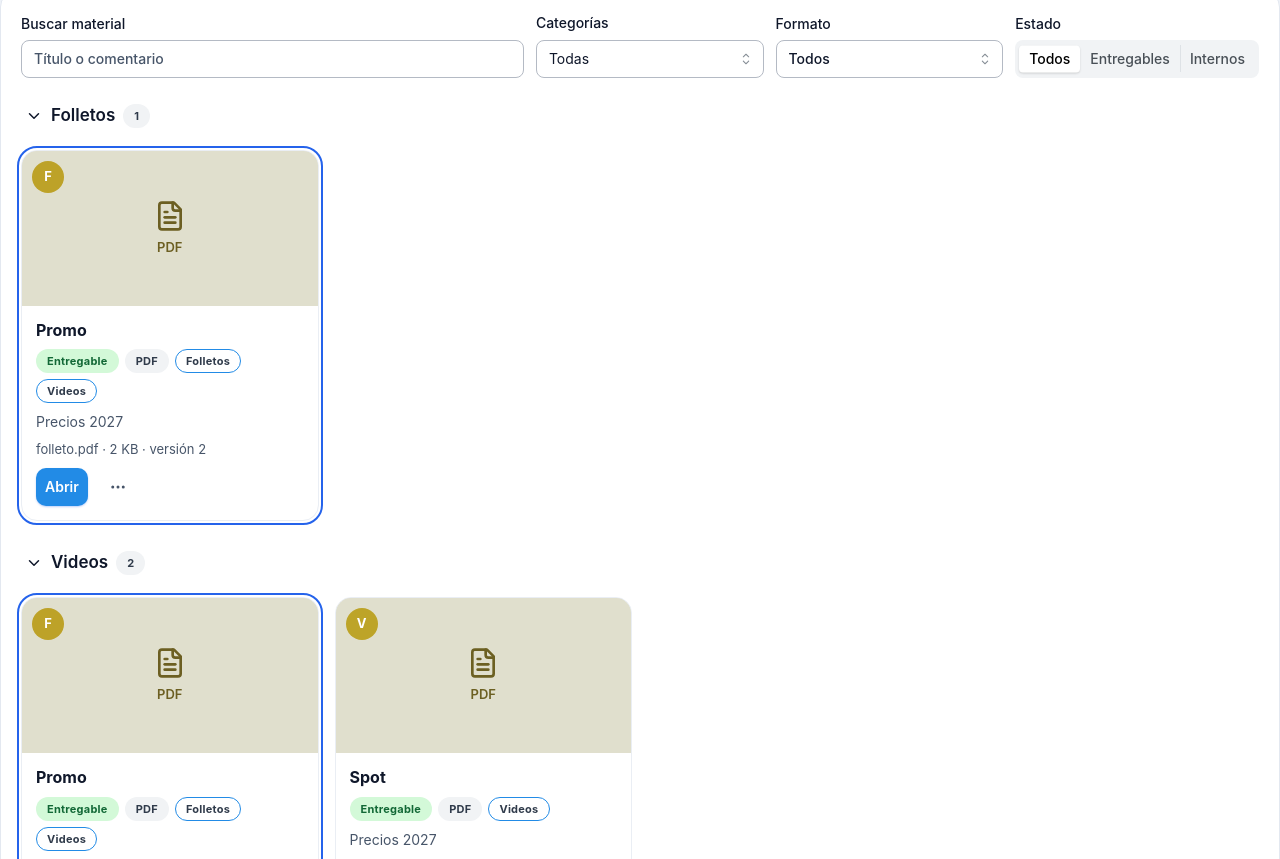
Test: SalesMaterialPanel › groups the list by category in collapsible sections with a count, «Sin categoría» last and multi-category material under each
What coordinates should you click on to do the following:
click the button "Videos 2"
I would click on:
 (85, 563)
Its box is [21,541,149,585].
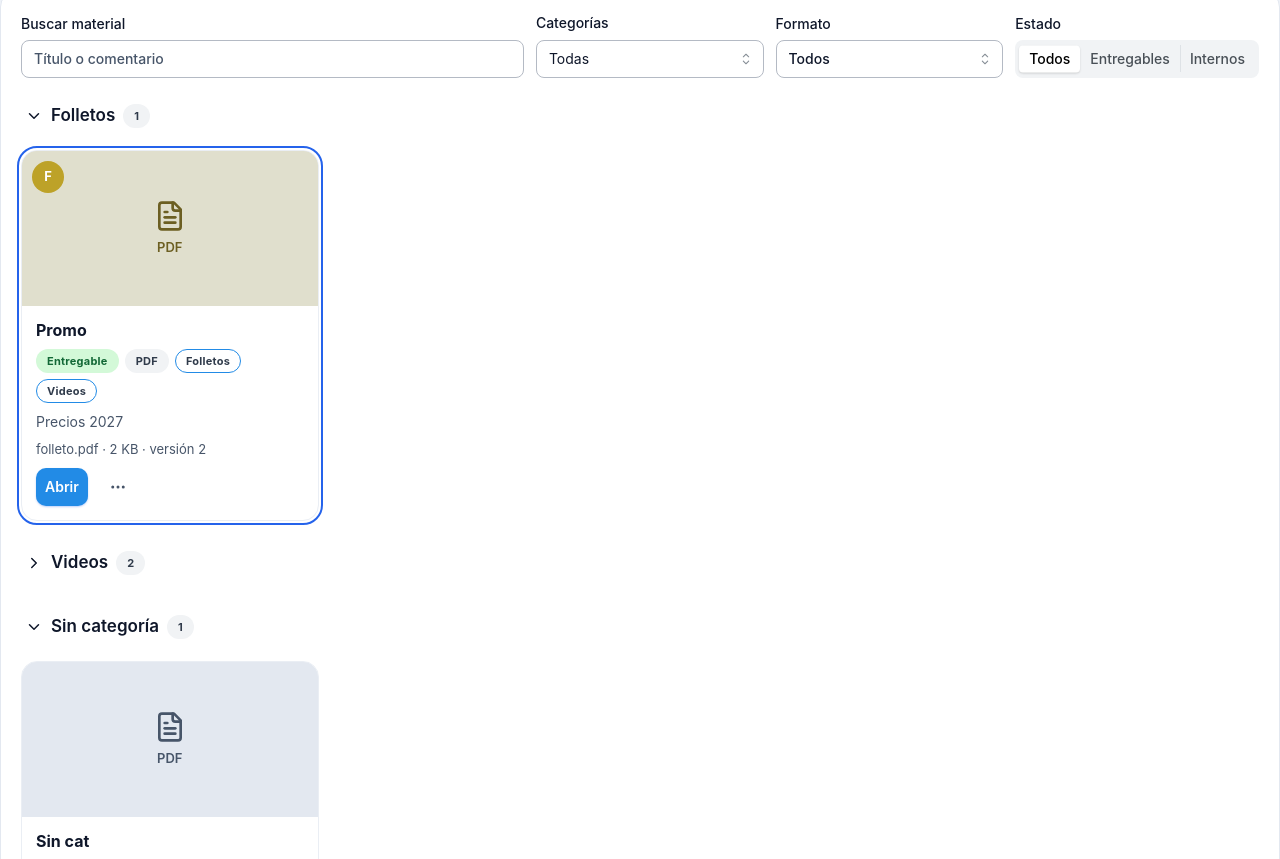
Result: the button "Videos 2" is collapsed
Result: the button "Spot" is gone
What coordinates should you click on to do the following:
click the button "Videos 2"
I would click on:
 (85, 563)
Its box is [21,541,149,585].
(page scrolled)
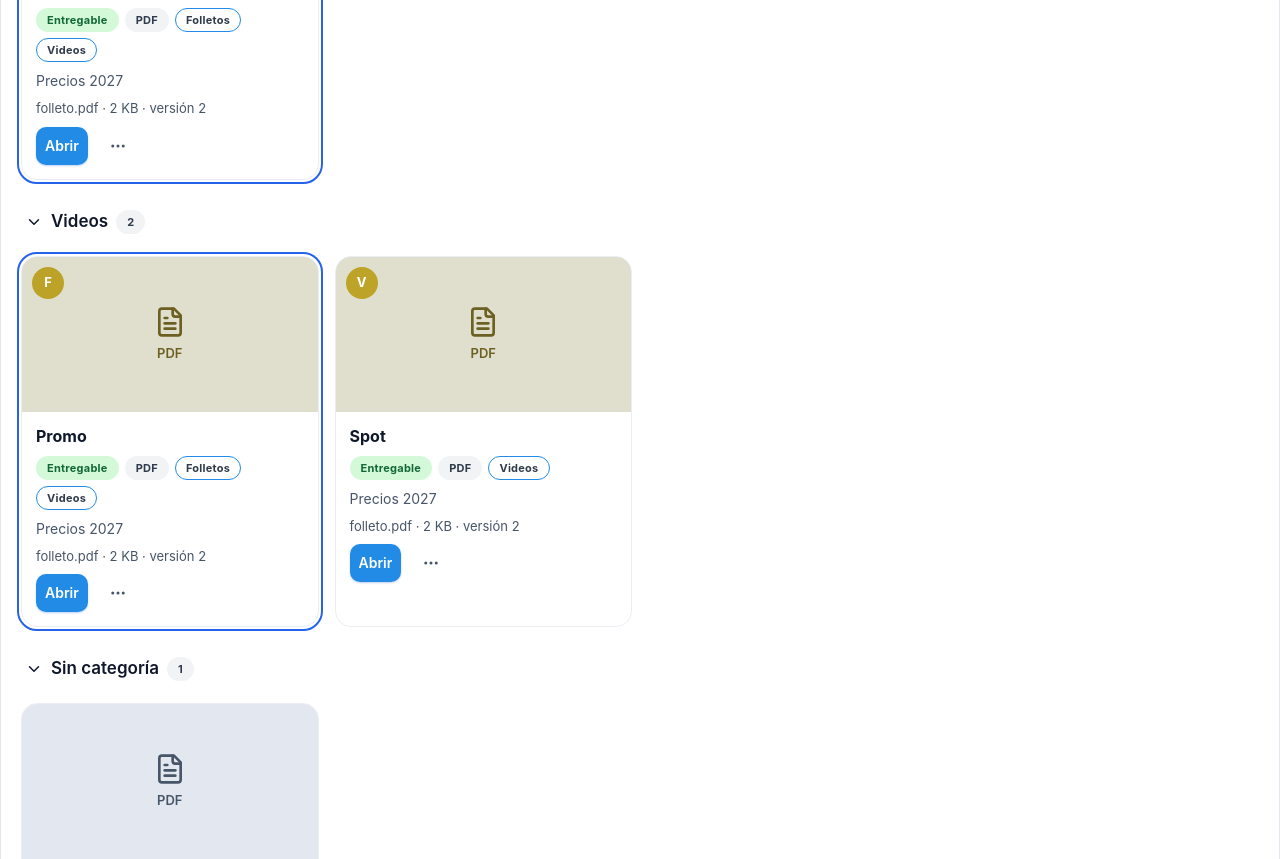
Result: the element "Spot" is shown at [334,256,632,627]
